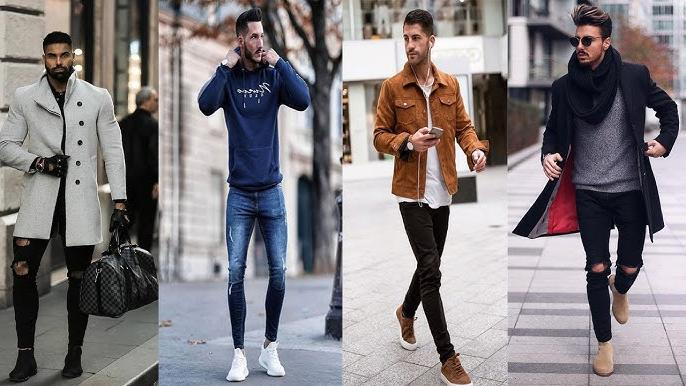coat: (510, 54, 681, 246), (0, 69, 132, 243)
jacket: (370, 58, 492, 201)
sweater: (196, 45, 310, 189), (568, 85, 643, 195)
trousers: (10, 211, 96, 356), (573, 187, 652, 341), (224, 183, 289, 352), (395, 200, 455, 365)
